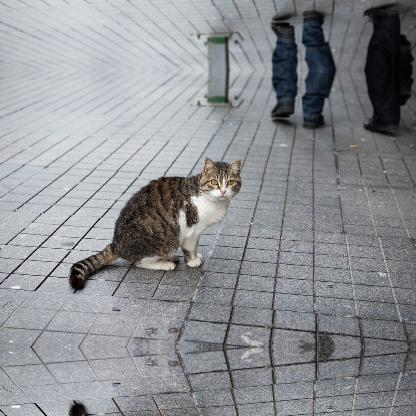Cat: (68, 160, 242, 288)
